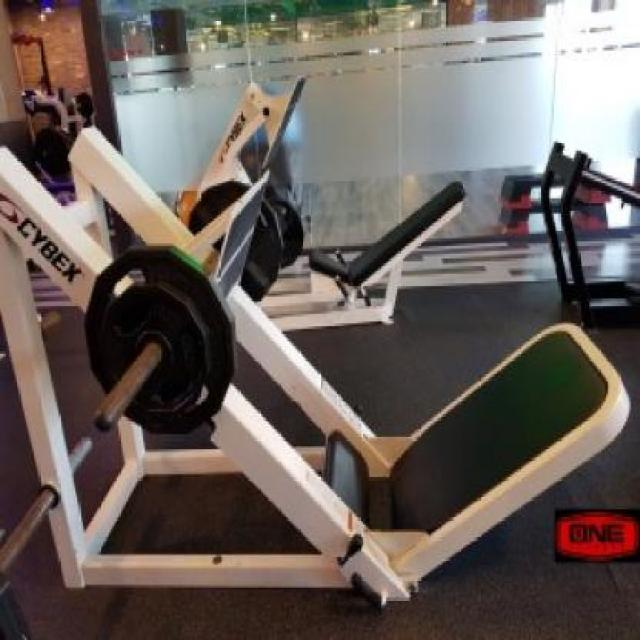leg press: (0, 89, 638, 640)
